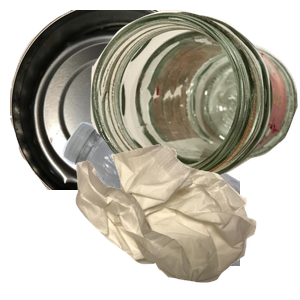glass: (90, 10, 300, 184)
metal: (10, 10, 221, 190)
plastic: (60, 120, 300, 300)
trash: (73, 142, 300, 300)
